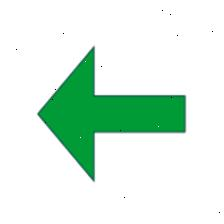left: (32, 41, 193, 185)
